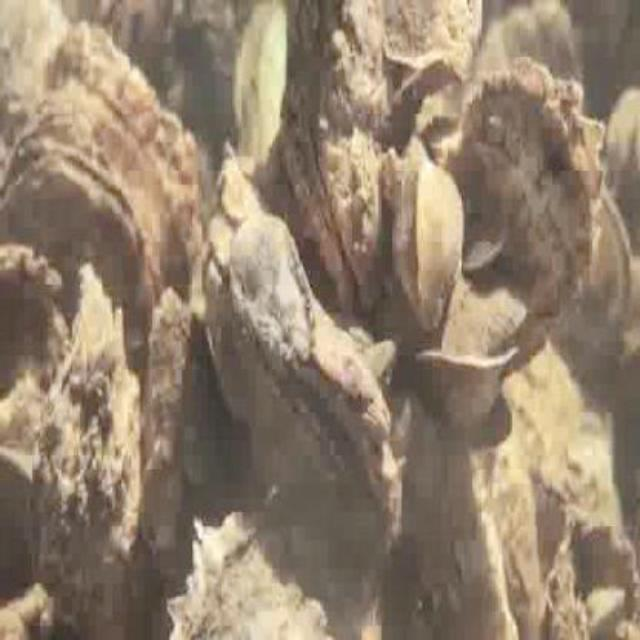Oyster-Closed: (24, 274, 140, 613), (3, 94, 190, 302), (48, 32, 200, 249), (0, 149, 158, 354), (470, 69, 593, 316), (168, 507, 380, 638), (142, 295, 215, 551), (222, 213, 315, 363), (557, 185, 638, 357), (0, 245, 63, 392), (232, 14, 288, 169), (475, 4, 581, 84), (382, 0, 481, 62)
Oyster-Open: (203, 172, 403, 564), (277, 0, 384, 316), (383, 60, 506, 269), (392, 157, 465, 331)
